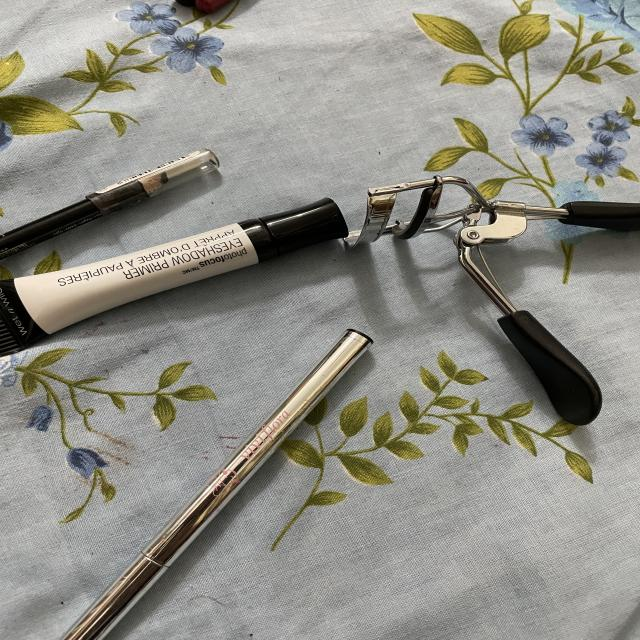eye liner: (52, 316, 382, 640), (0, 137, 229, 253)
eyelash curler: (339, 167, 640, 427)
primer: (0, 198, 352, 353)
